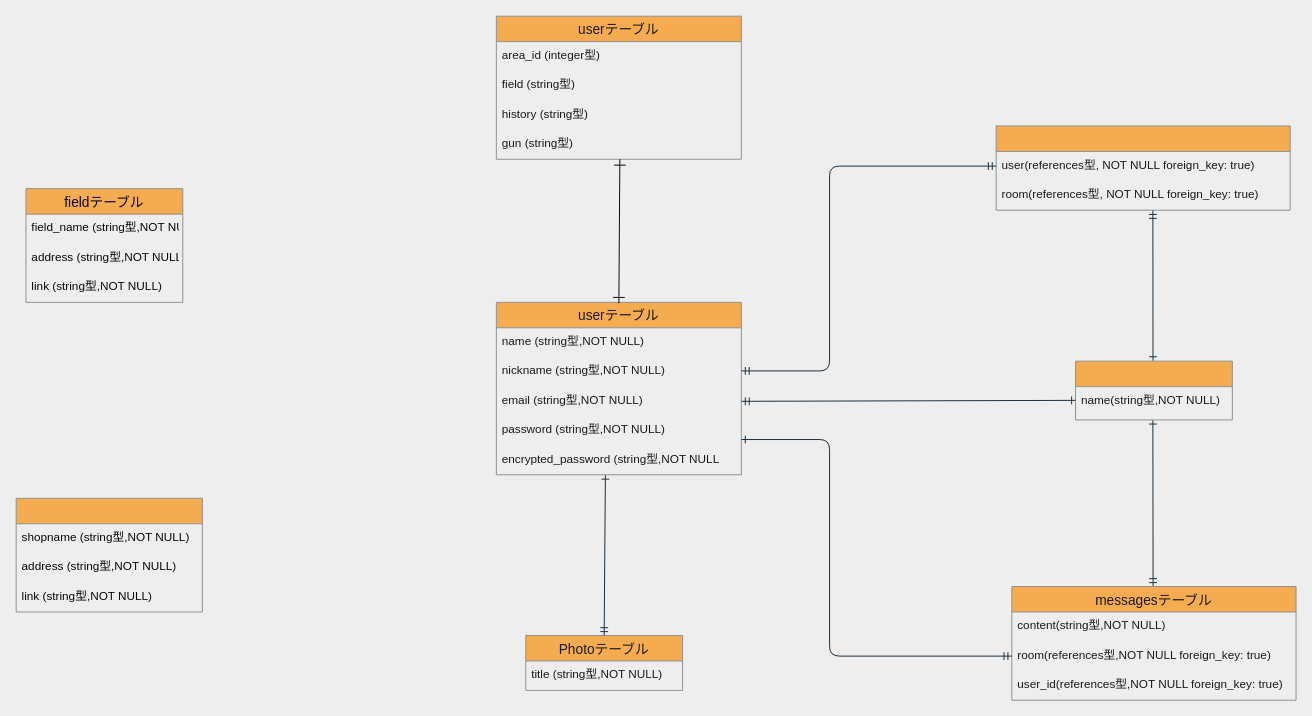
The diagram is 1312 pixels wide and 716 high, and some of its shapes have lost their labels. Here are the shapes that lost their labels. From the top down, the box of each, then its label:
(995, 125, 1290, 210): room_usersテーブル
(1075, 360, 1232, 420): roomsテーブル
(15, 497, 202, 612): shopテーブル
